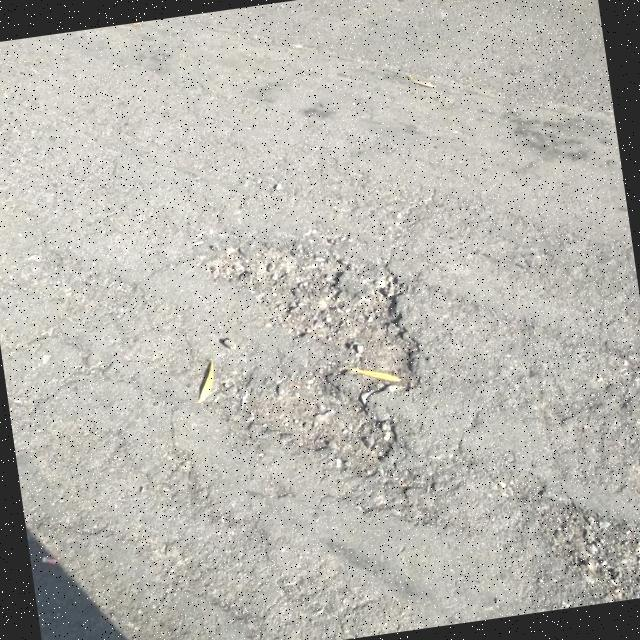Pothole: (182, 245, 432, 484), (528, 496, 640, 604)
